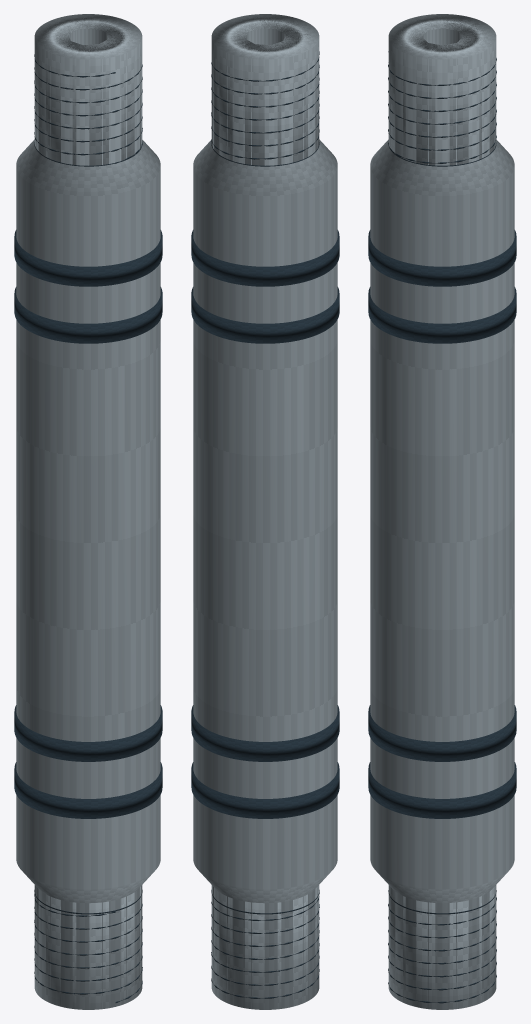
File: near-bit.glb
3 renders of one model, left to right at view 1: azimuth 30°, elevation 25°; view 2: azimuth 150°, elevation 25°; view 3: azimuth 270°, elevation 25°, orthographic.
Parts seen in each view (by area): view 1: tool-housing (×3), service-features (×2), uphole-connection (×3), downhole-connection (×2); view 2: tool-housing (×3), service-features (×2), uphole-connection (×3), downhole-connection (×2); view 3: tool-housing (×3), service-features (×2), uphole-connection (×3), downhole-connection (×2).
Boxes of the visible parts, left/top/right/bottom form: tool-housing (×3): left=16, top=14, right=160, bottom=1009; service-features (×2): left=14, top=230, right=162, bottom=818; uphole-connection (×3): left=34, top=14, right=142, bottom=166; downhole-connection (×2): left=34, top=885, right=142, bottom=1009; tool-housing (×3): left=193, top=14, right=337, bottom=1009; service-features (×2): left=191, top=230, right=339, bottom=818; uphole-connection (×3): left=211, top=14, right=319, bottom=166; downhole-connection (×2): left=211, top=885, right=319, bottom=1009; tool-housing (×3): left=370, top=14, right=514, bottom=1009; service-features (×2): left=368, top=230, right=516, bottom=818; uphole-connection (×3): left=388, top=14, right=496, bottom=166; downhole-connection (×2): left=388, top=886, right=496, bottom=1009.
Bounding box in the file's own units: 0.1257 × 0.89 × 0.1257.
2 materials, 2 textured.
